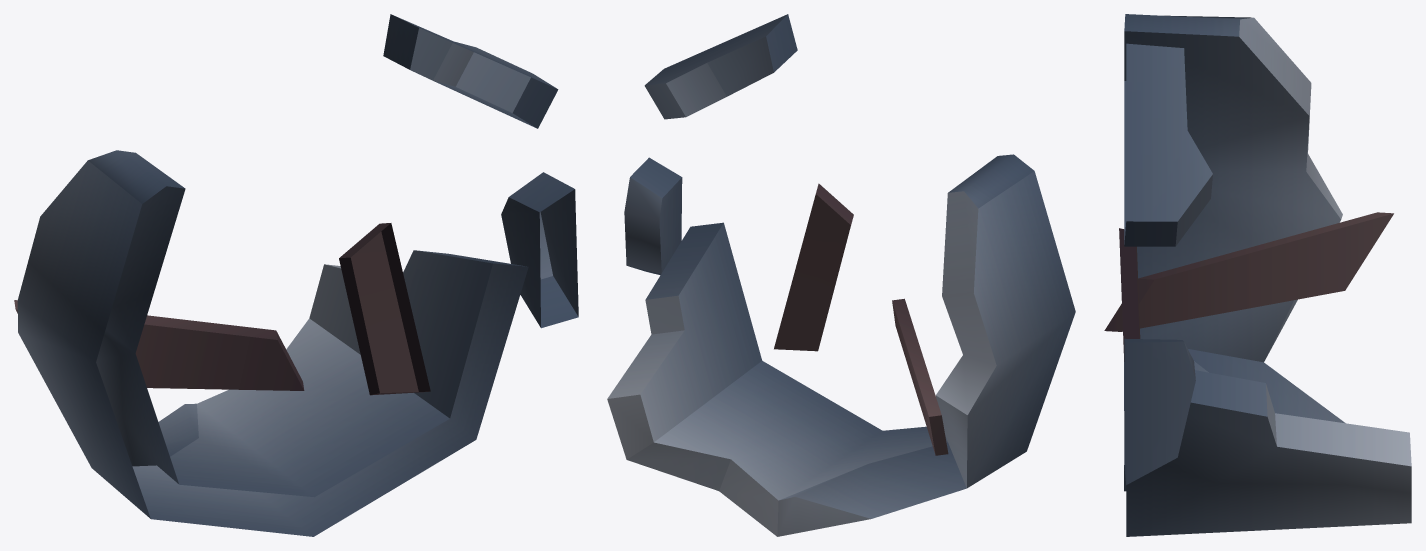
Rendered from Ruin 02.FBX.
3 views of the same model, side by side, from view 1: azimuth 30°, elevation 25°; view 2: azimuth 150°, elevation 25°; view 3: azimuth 270°, elevation 25° (orthographic). The views are drawn at different scales.
Parts seen in each view (by area): view 1: Ruin 02; view 2: Ruin 02; view 3: Ruin 02.
Part boxes in pixels (x1,y1,x2,y2): Ruin 02: (14, 14, 578, 536); Ruin 02: (607, 14, 1075, 536); Ruin 02: (1104, 14, 1411, 536).
Size of the model in its own units: 241 by 122 by 231.
1 material, 1 textured.
